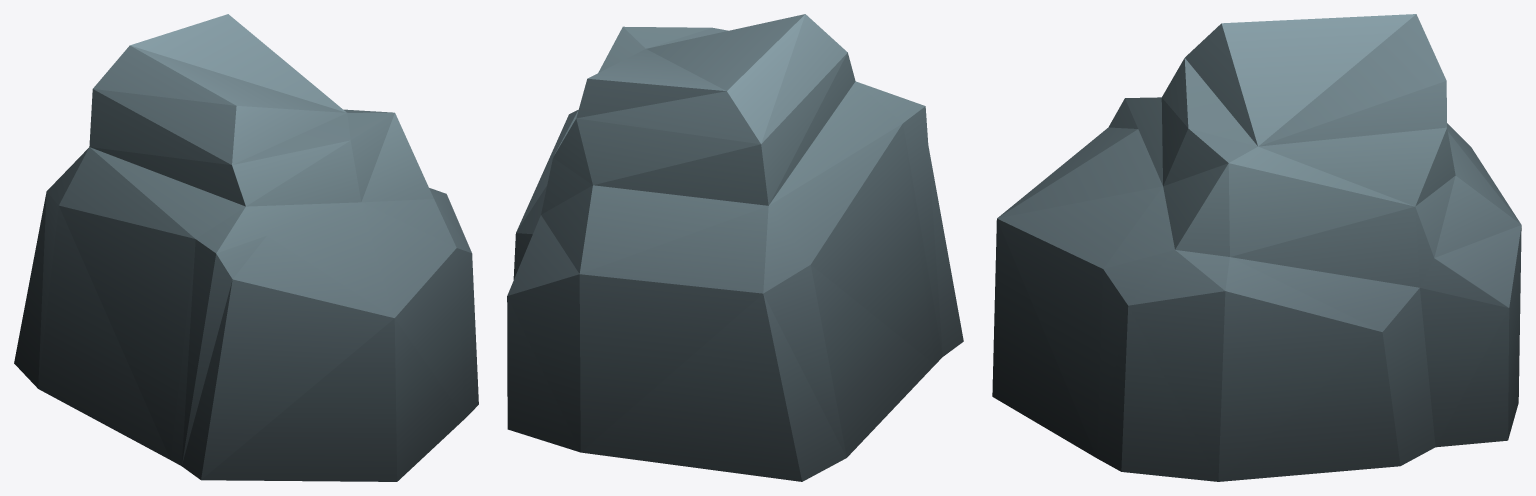
File: stone small gray blue 7.fbx
3 renders of one model, left to right at view 1: azimuth 30°, elevation 25°; view 2: azimuth 150°, elevation 25°; view 3: azimuth 270°, elevation 25°, orthographic. The views are drawn at different scales.
Parts seen in each view (by area): view 1: stone small gray blue 7; view 2: stone small gray blue 7; view 3: stone small gray blue 7.
Part boxes in pixels (x1,y1,x2,y2): stone small gray blue 7: [14, 14, 478, 481]; stone small gray blue 7: [507, 14, 963, 481]; stone small gray blue 7: [992, 14, 1521, 481].
Size of the model in its own units: 87.55 by 78.65 by 110.
